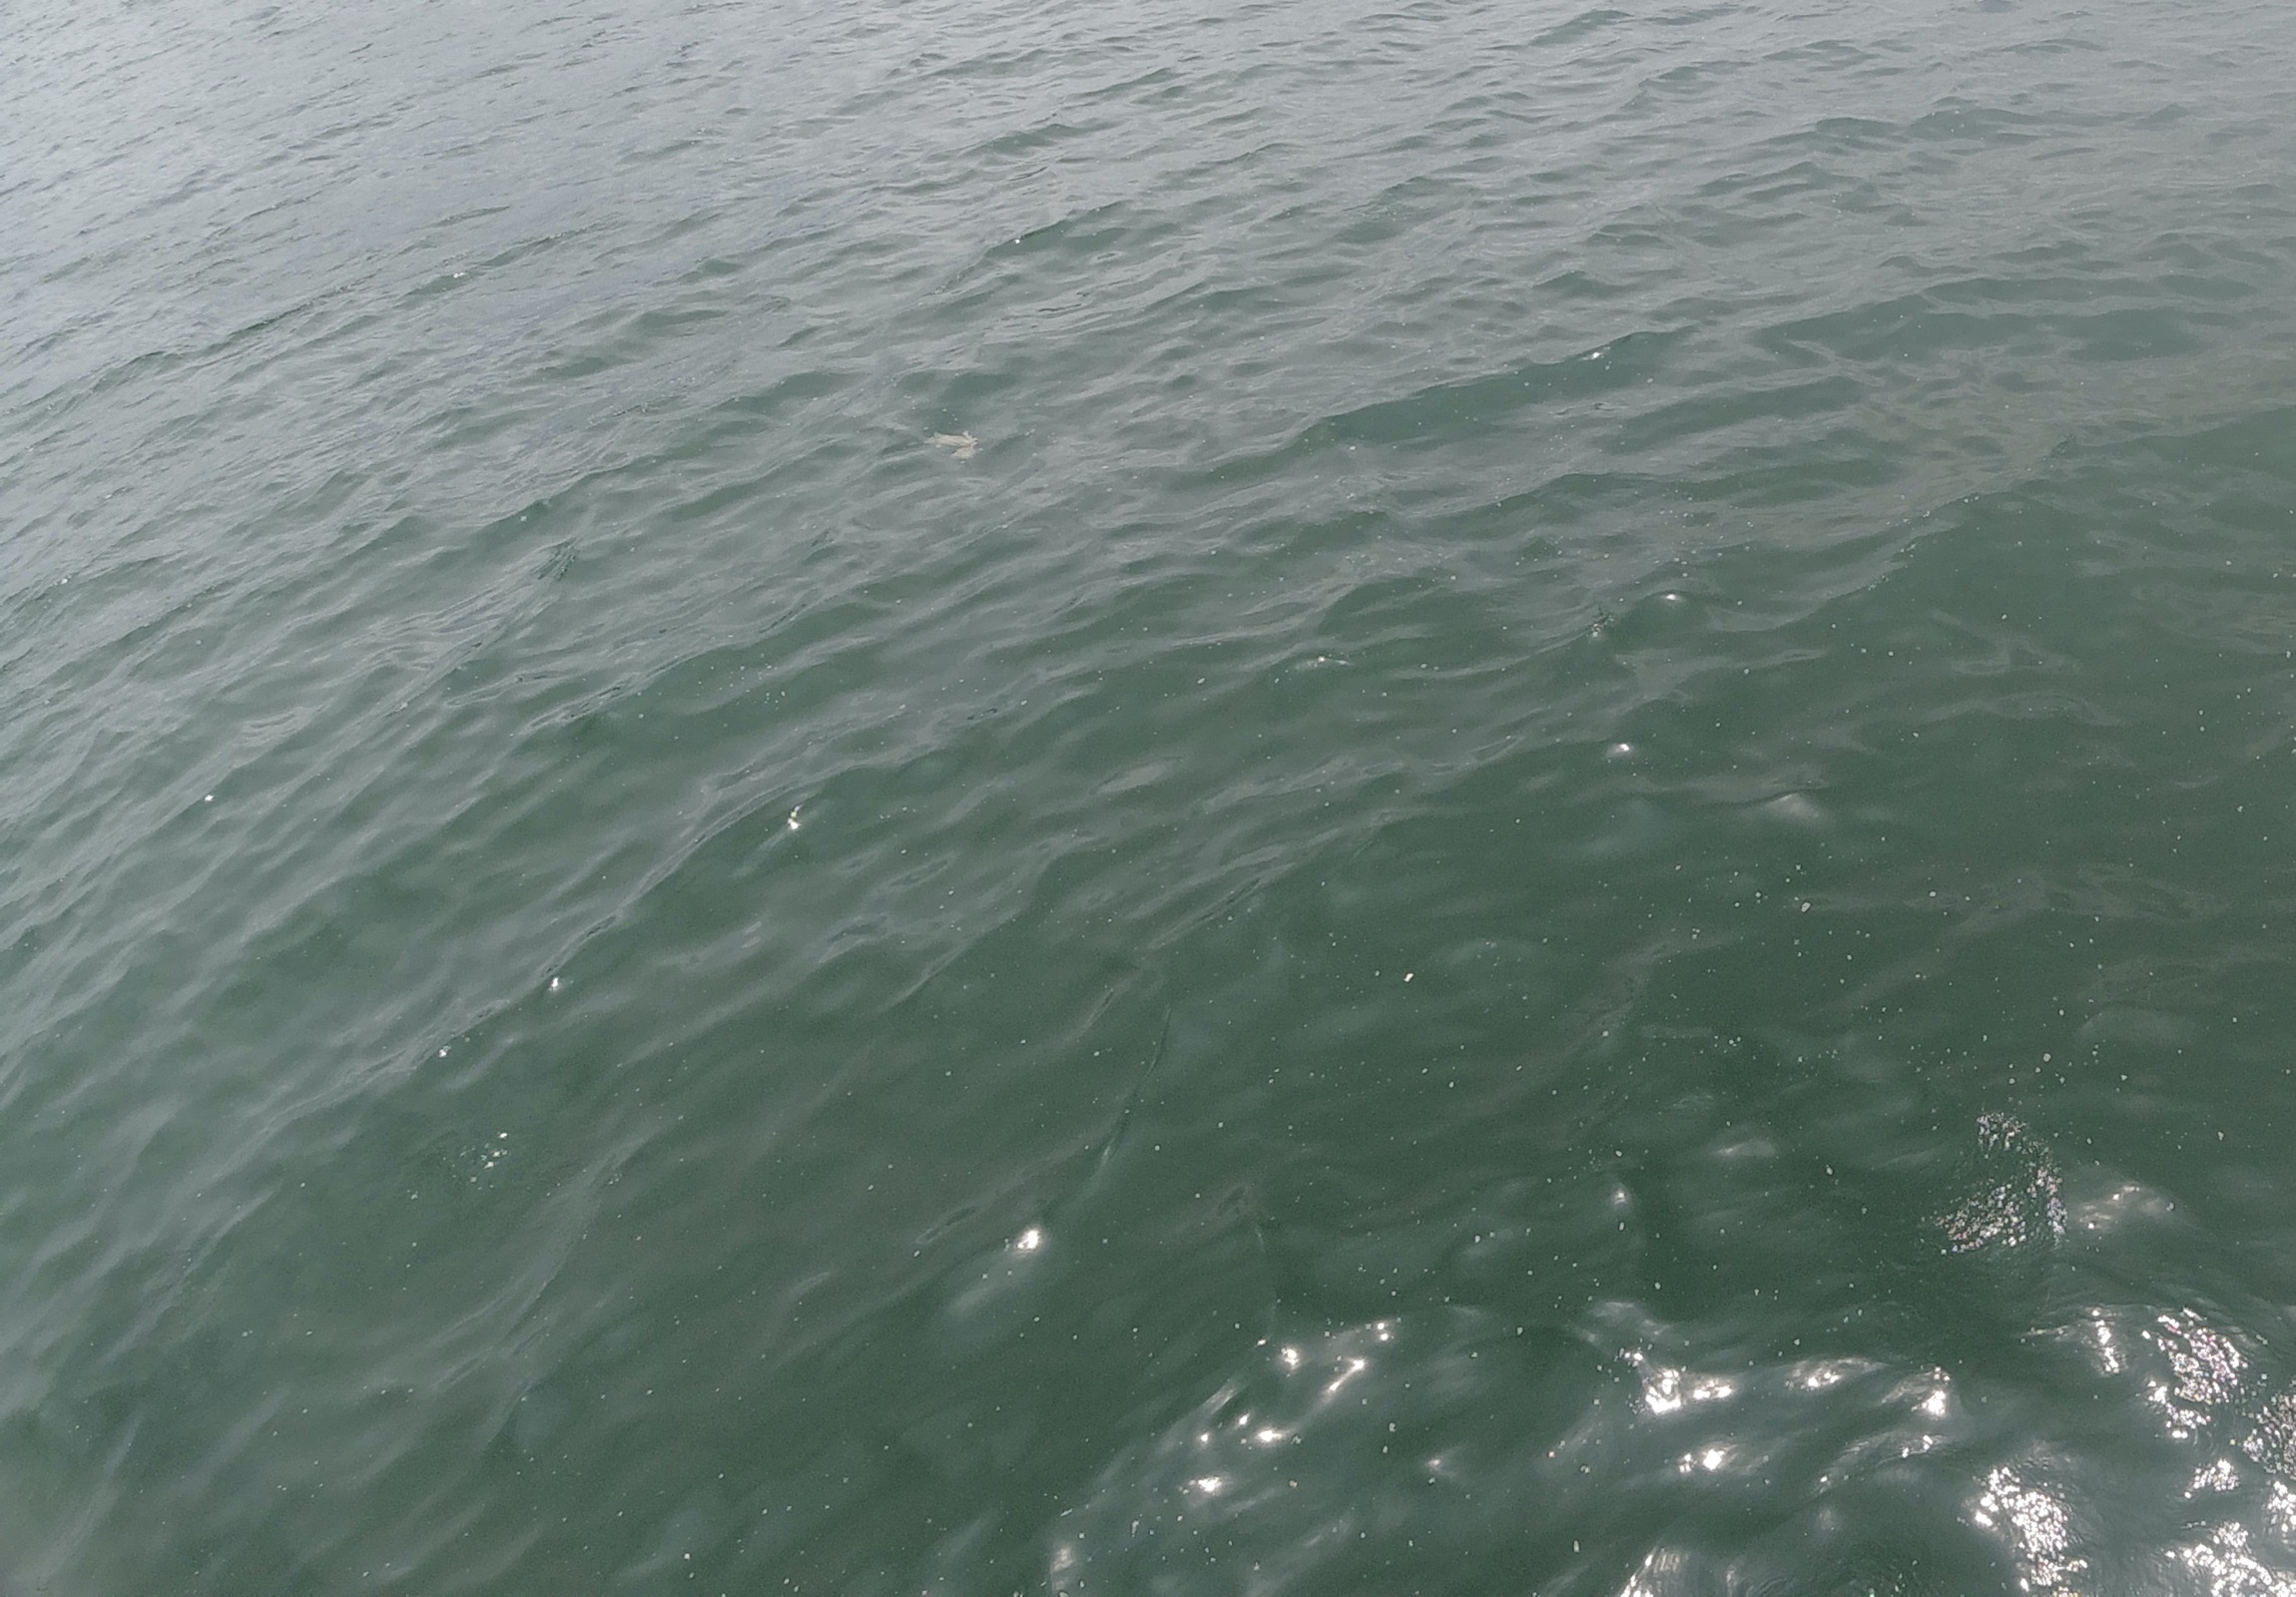plastic: (918, 417, 991, 483)
